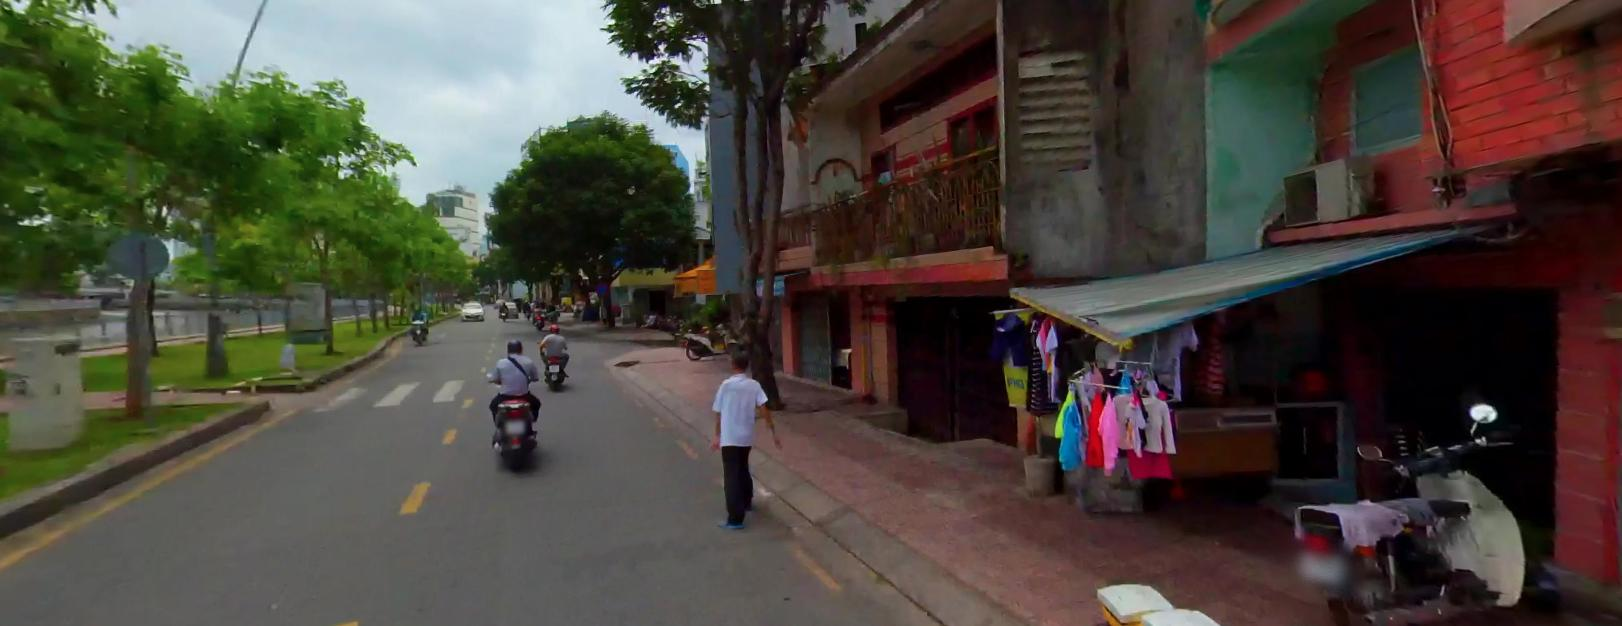Cam dung va do: (596, 280, 609, 295)
